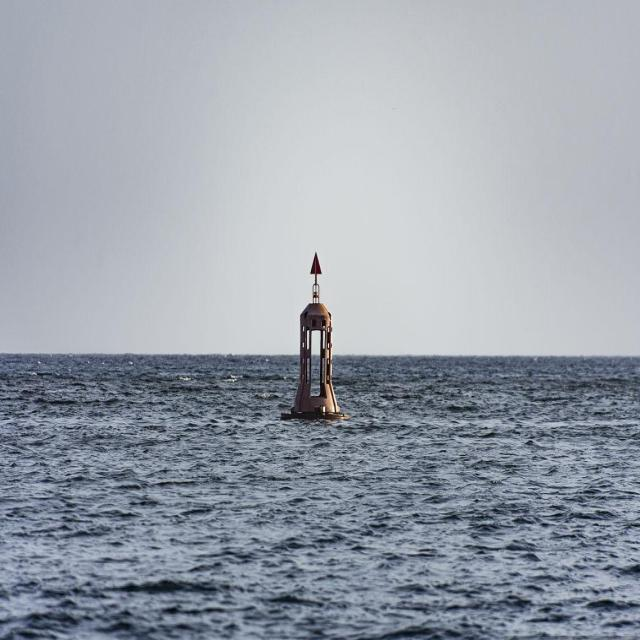buoy: (282, 248, 342, 425)
